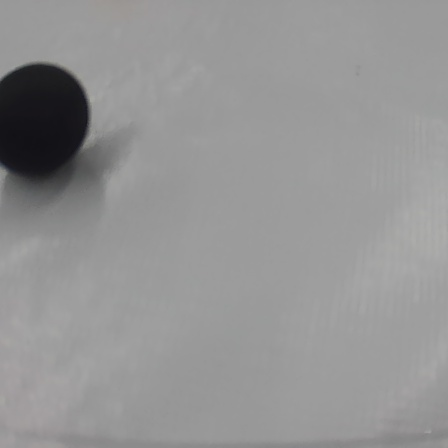black: (6, 60, 93, 194)
